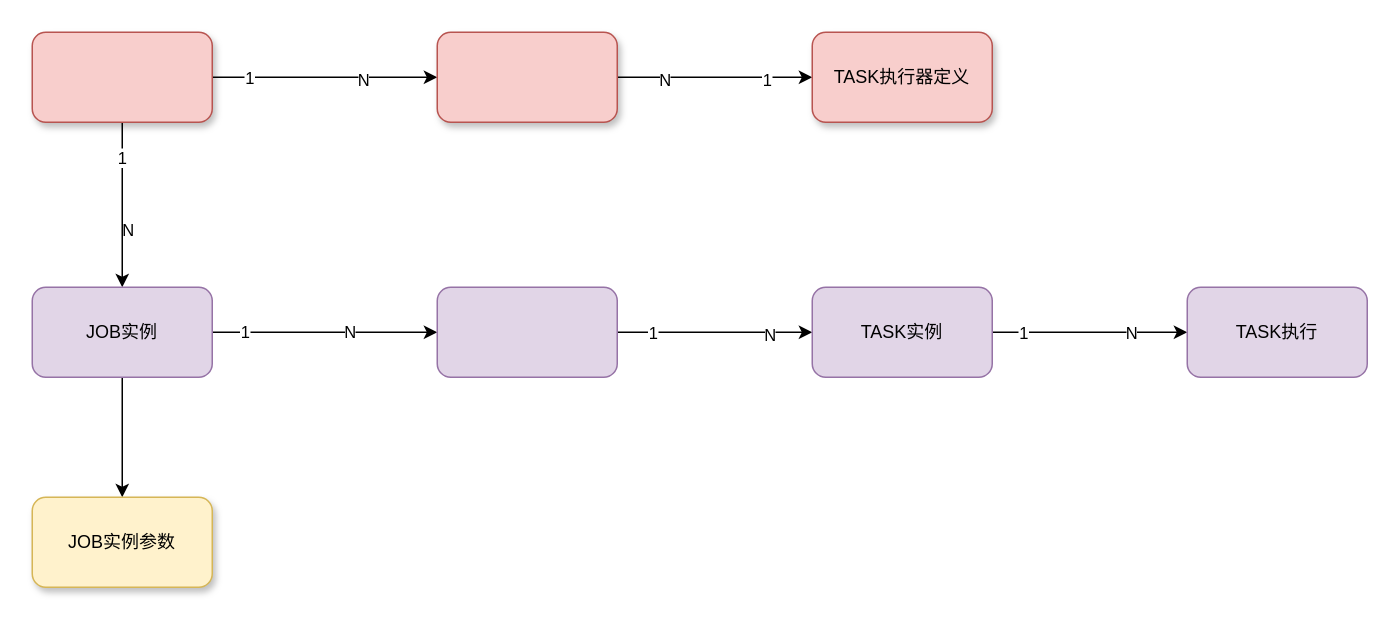
The diagram is 1394 pixels wide and 624 high, and some of its shapes have lost their labels. Here are the shapes that lost their labels. From the top down, the centre of each, then its label:
At point 123,79: "JOB定义".
At point 528,79: "JOB节点".
At point 526,331: "JOB执行".
